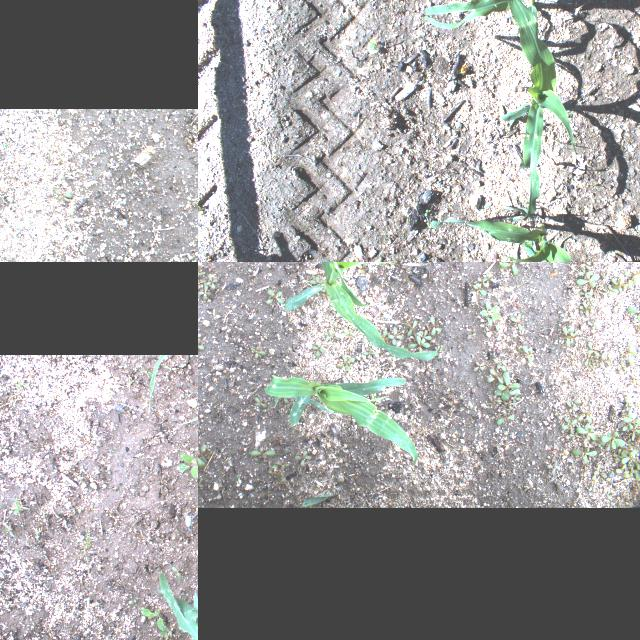crop: (489, 0, 577, 221), (283, 262, 439, 359), (263, 374, 419, 464), (428, 216, 586, 262), (423, 0, 556, 43), (502, 236, 551, 262), (148, 354, 166, 414), (300, 494, 334, 506), (367, 36, 379, 52)
weed: (139, 607, 173, 640), (615, 343, 639, 373), (479, 297, 501, 327), (573, 446, 603, 468), (262, 285, 286, 311), (176, 451, 198, 479), (498, 372, 520, 400), (560, 322, 580, 351), (268, 455, 292, 477), (474, 274, 496, 296), (520, 338, 536, 368), (567, 393, 587, 417), (335, 353, 359, 372), (321, 326, 354, 339), (250, 446, 280, 459), (626, 301, 640, 328), (499, 262, 528, 275), (493, 412, 519, 426), (292, 446, 312, 464), (578, 270, 598, 288), (198, 440, 211, 467), (603, 432, 627, 446), (510, 310, 524, 332), (11, 498, 29, 514), (310, 341, 326, 359), (388, 326, 404, 344), (592, 464, 610, 480), (546, 460, 564, 476), (621, 449, 637, 466), (623, 425, 640, 441), (362, 345, 378, 361), (563, 416, 579, 432), (428, 316, 442, 334), (250, 344, 270, 356), (410, 336, 430, 348), (472, 360, 486, 376), (586, 315, 602, 329), (504, 394, 520, 408), (612, 276, 626, 292), (524, 240, 542, 252), (578, 427, 596, 439), (594, 354, 612, 366), (623, 413, 640, 425), (54, 189, 74, 199), (404, 322, 418, 336), (612, 446, 624, 462), (625, 272, 637, 288), (490, 360, 508, 370), (198, 474, 209, 490), (170, 566, 182, 580), (254, 398, 268, 410), (198, 286, 212, 298), (576, 410, 590, 422), (489, 369, 501, 383), (509, 255, 532, 262), (208, 272, 218, 288), (616, 466, 632, 476), (418, 330, 430, 342), (580, 302, 592, 314), (630, 374, 640, 388), (586, 345, 600, 355), (604, 284, 618, 294), (579, 288, 591, 298), (198, 334, 204, 353), (591, 437, 605, 445), (634, 465, 640, 479), (422, 207, 430, 217), (198, 278, 206, 287), (626, 402, 634, 411), (584, 358, 592, 367), (580, 262, 590, 269), (198, 267, 205, 276), (198, 205, 203, 216), (570, 434, 578, 440), (194, 505, 198, 516), (568, 108, 574, 115), (2, 142, 8, 148)
